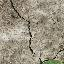Morning glory: (24, 14, 64, 64)
